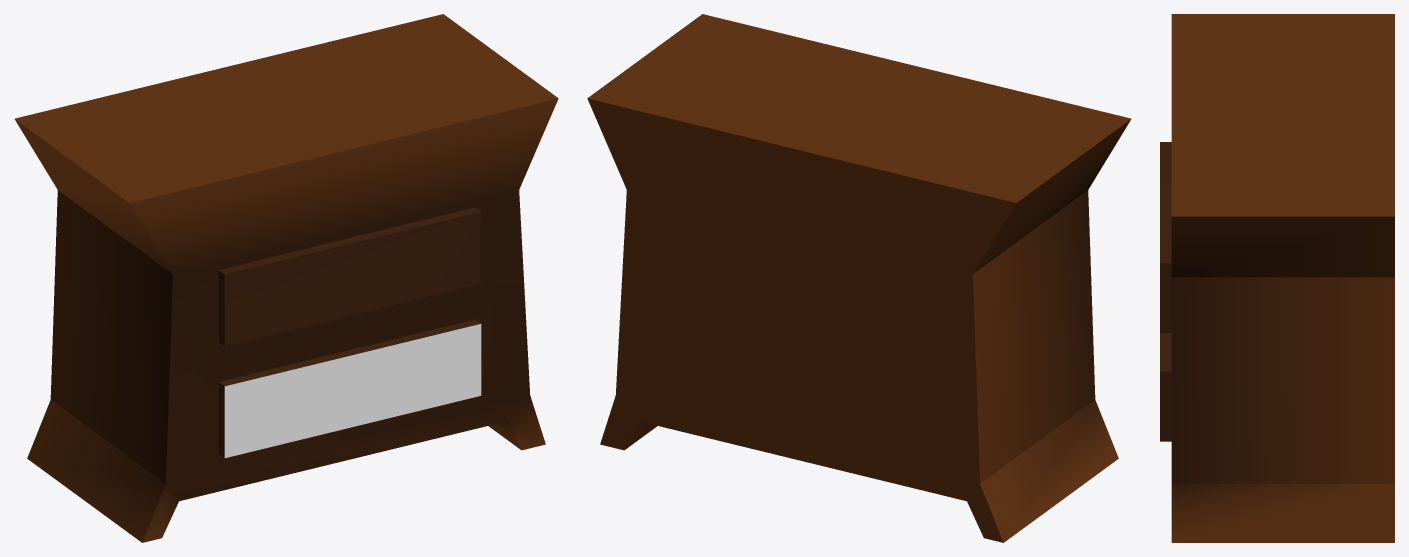
The model's file is furniture.glb.
3 views of the same model, side by side, from view 1: azimuth 30°, elevation 25°; view 2: azimuth 150°, elevation 25°; view 3: azimuth 270°, elevation 25° (orthographic). The views are drawn at different scales.
Parts seen in each view (by area): view 1: Cube; view 2: Cube; view 3: Cube.
Part boxes in pixels (x1,y1,x2,y2): Cube: [14, 14, 558, 542]; Cube: [587, 14, 1131, 542]; Cube: [1160, 14, 1394, 542].
Bounding box in the file's own units: 0.9165 × 0.7 × 0.4486.
